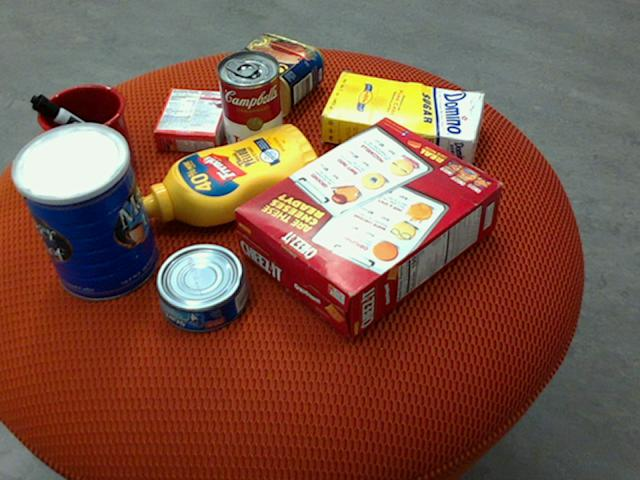cracker_box: (235, 116, 503, 337)
gelatin_box: (152, 87, 232, 152)
large_marker: (30, 94, 131, 164)
master_chef_can: (9, 123, 158, 301)
mug: (28, 84, 134, 188)
mustard_bottle: (134, 123, 323, 226)
potted_meat_can: (219, 34, 324, 117)
sugar_box: (321, 72, 486, 164)
tomato_soup_can: (217, 49, 283, 158)
tuna_fish_can: (155, 244, 249, 333)
